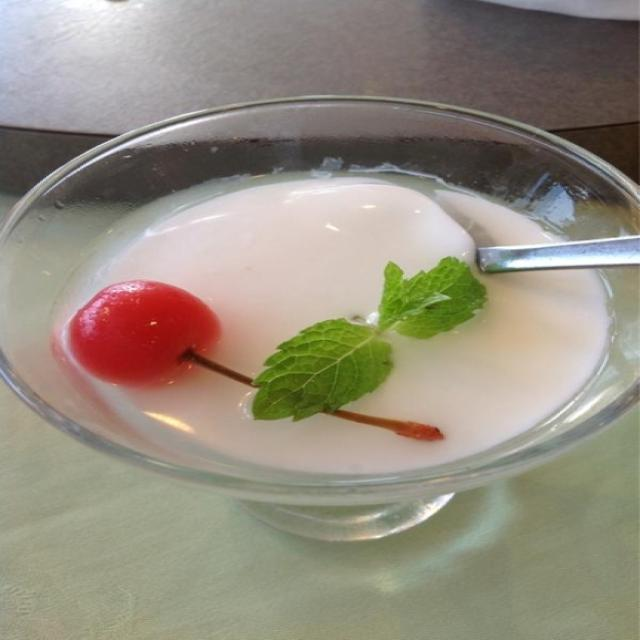炸货点心: (0, 80, 640, 524)
